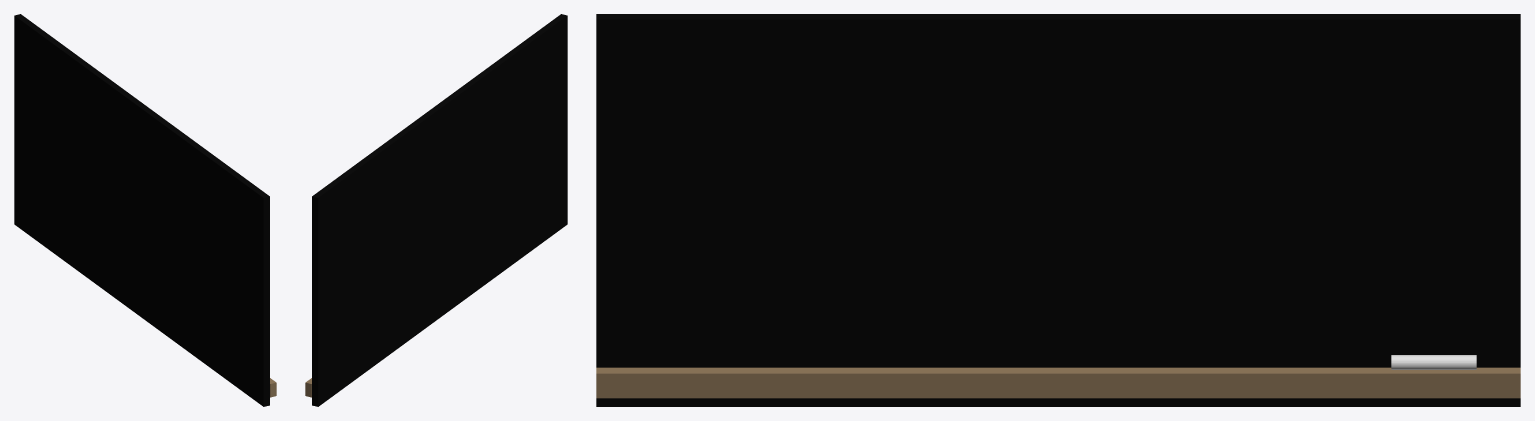
The model's file is blackboard.fbx.
3 views of the same model, side by side, from view 1: azimuth 30°, elevation 25°; view 2: azimuth 150°, elevation 25°; view 3: azimuth 270°, elevation 25° (orthographic). The views are drawn at different scales.
Parts seen in each view (by area): view 1: Cube; view 2: Cube; view 3: Cube, Cube.001, Cylinder.
Part boxes in pixels (bbox=[...]): Cube: bbox=[14, 14, 269, 406]; Cube: bbox=[312, 14, 567, 406]; Cube: bbox=[596, 14, 1520, 406]; Cube.001: bbox=[596, 367, 1520, 398]; Cylinder: bbox=[1391, 355, 1476, 369].
Bounding box in the file's own units: 37.68 × 574 × 1241.
